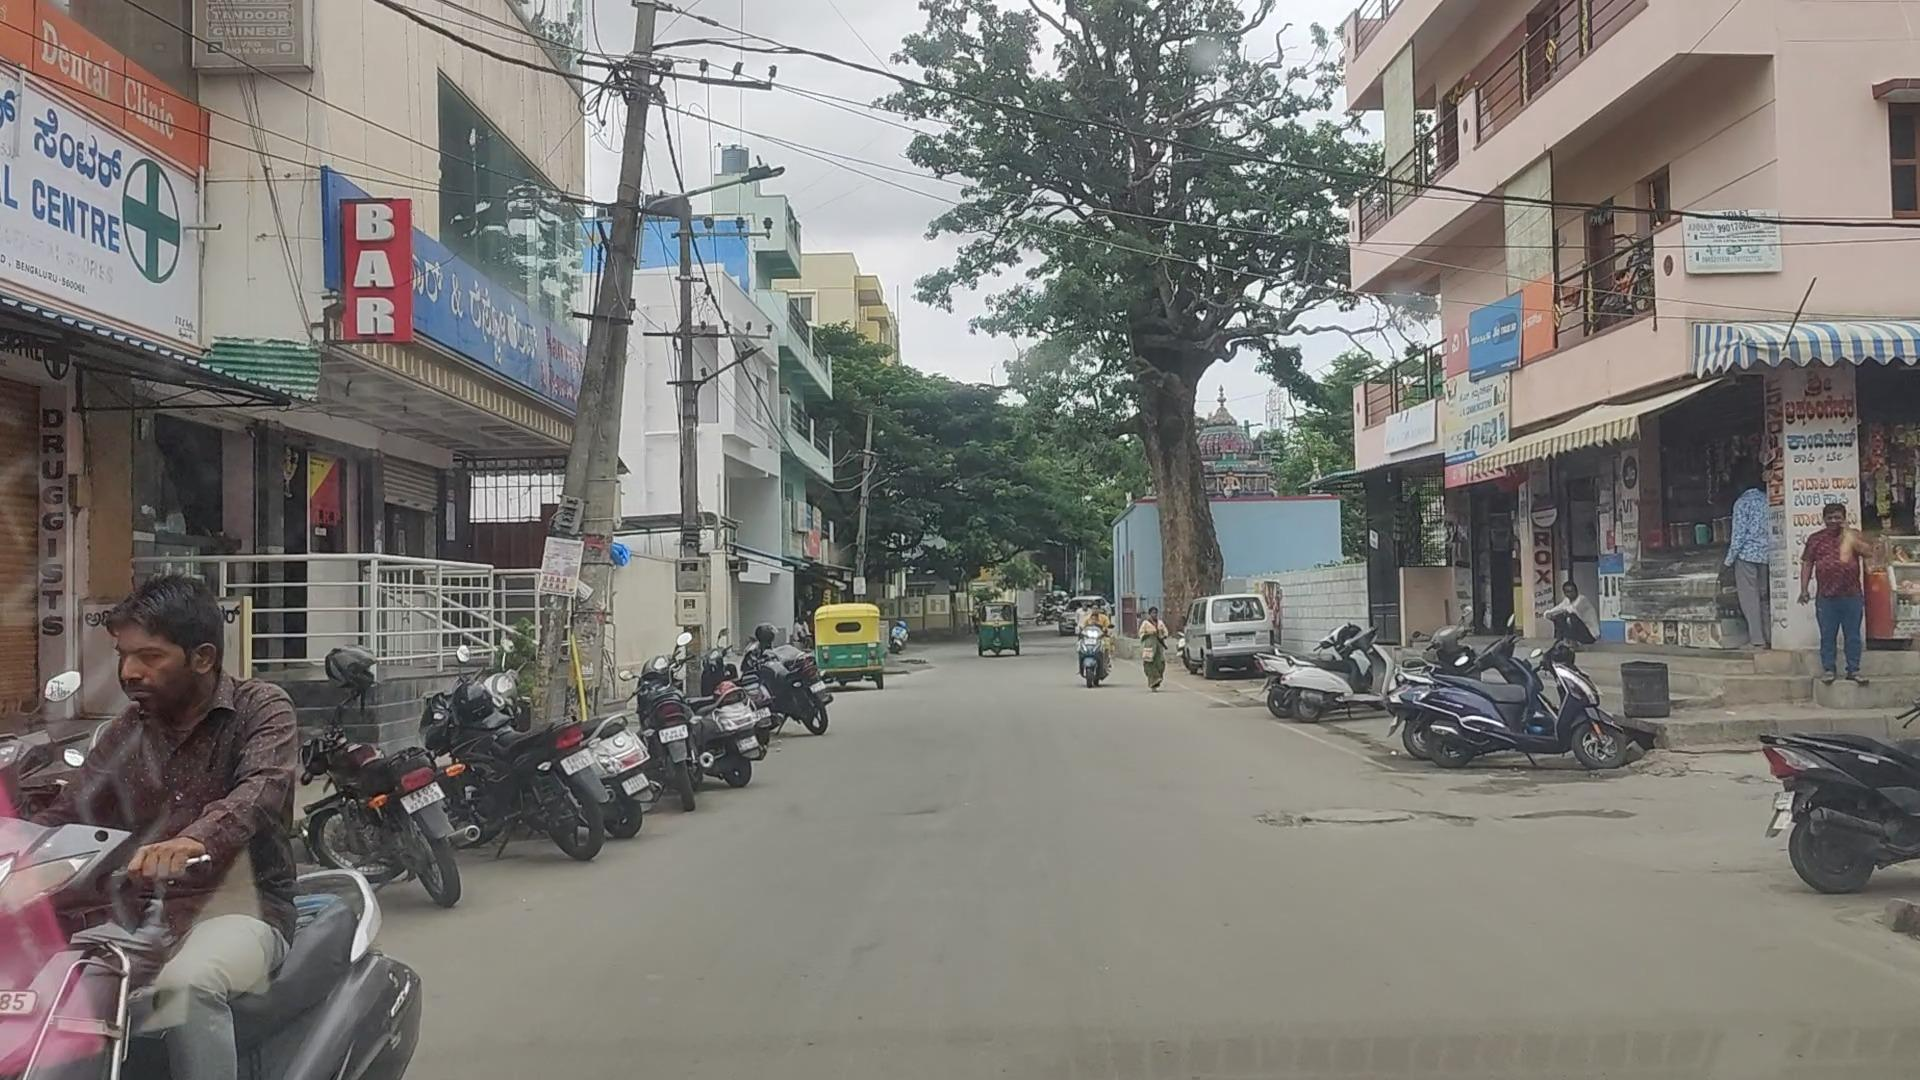LMV: (0, 578, 411, 1080)
RoadDamages: (1249, 786, 1473, 852)
